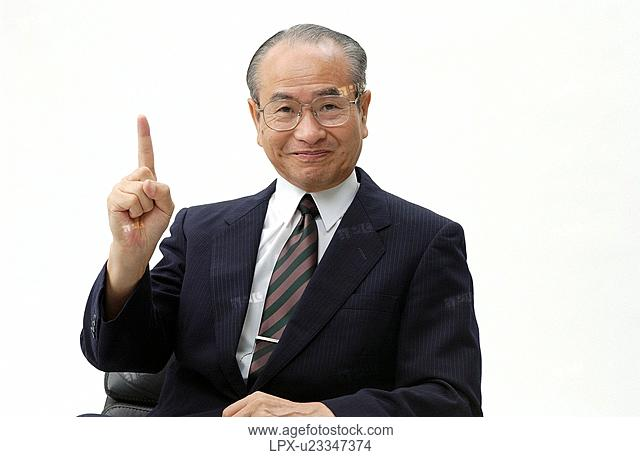move: (107, 117, 173, 249)
